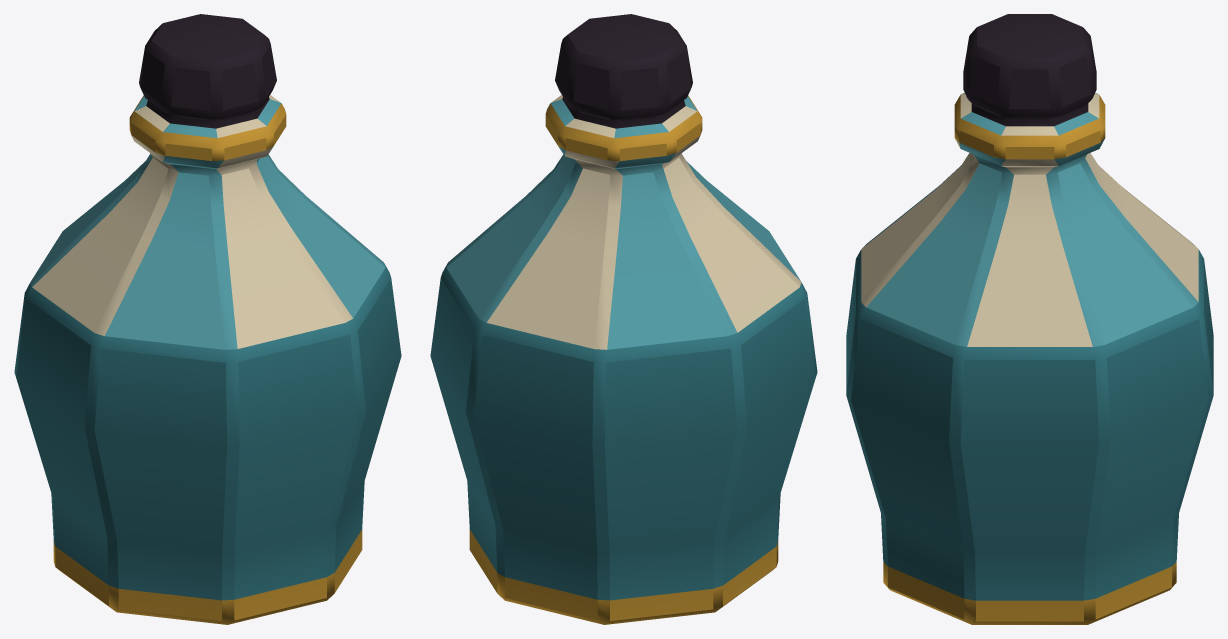
The model's file is Bottle_27.glb.
3 renders of one model, left to right at view 1: azimuth 30°, elevation 25°; view 2: azimuth 150°, elevation 25°; view 3: azimuth 270°, elevation 25°, orthographic.
Parts seen in each view (by area): view 1: Bottle_27; view 2: Bottle_27; view 3: Bottle_27.
Boxes of the visible parts, left/top/right/bottom form: Bottle_27: left=14, top=14, right=401, bottom=624; Bottle_27: left=430, top=14, right=817, bottom=624; Bottle_27: left=846, top=14, right=1213, bottom=624.
Size of the model in its own units: 1.35 by 2.18 by 1.35.
